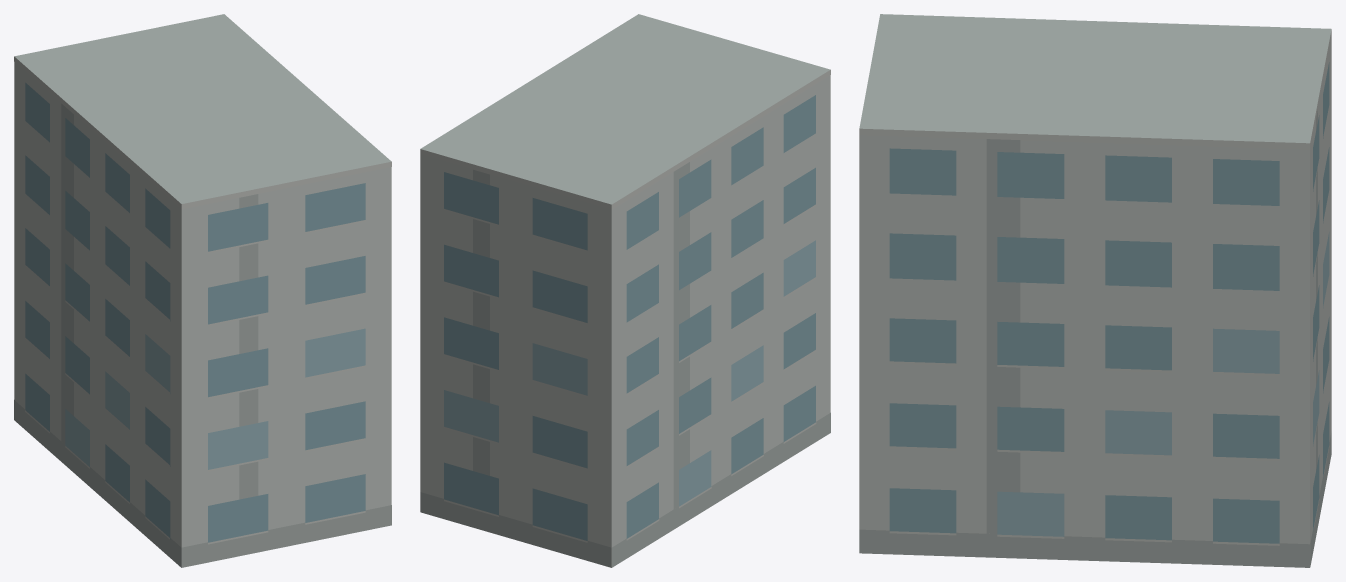
The model's file is survey-upis-32764969.glb.
3 renders of one model, left to right at view 1: azimuth 30°, elevation 25°; view 2: azimuth 150°, elevation 25°; view 3: azimuth 270°, elevation 25°, orthographic. The views are drawn at different scales.
Parts seen in each view (by area): view 1: survey-upis-32764969.tmp; view 2: survey-upis-32764969.tmp; view 3: survey-upis-32764969.tmp.
Boxes of the visible parts, x1,y1,x2,y2 form: survey-upis-32764969.tmp: (14, 14, 391, 567); survey-upis-32764969.tmp: (420, 14, 830, 567); survey-upis-32764969.tmp: (859, 14, 1331, 567).
Bounding box in the file's own units: 10.85 × 16.6 × 16.75.
